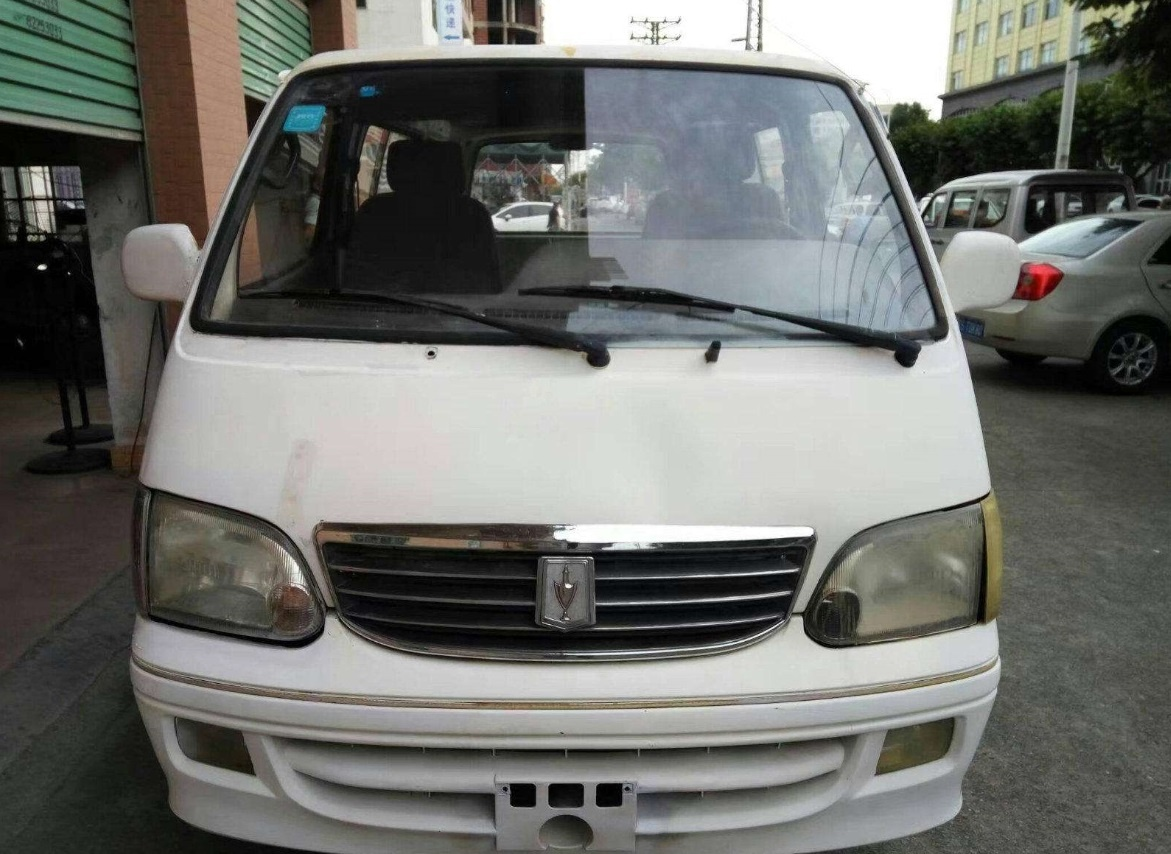minibus: (113, 44, 1008, 854)
